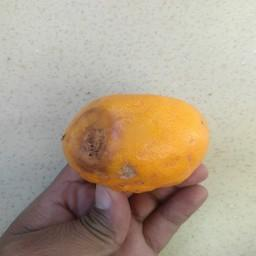Bad_orange: (56, 90, 213, 192)
